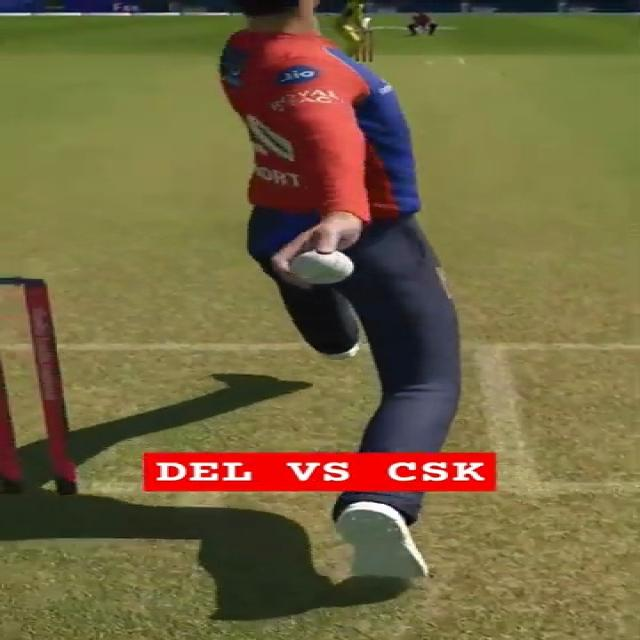ball: (288, 248, 354, 286)
